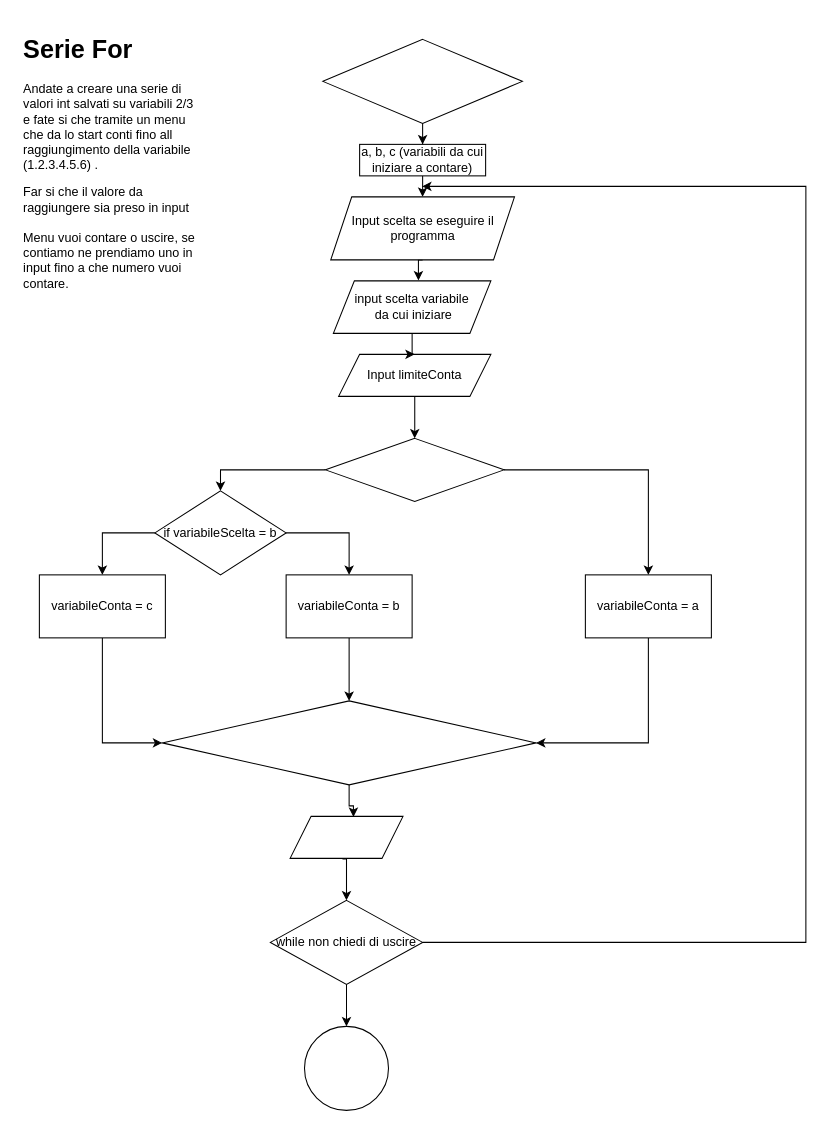
Some shapes in this 833 by 1129 pixel diagram are drawn without their labels. The centre of each missing label's shape, as x and y in pixels:
FINE: [345,1067]
for i = variabileConta; i < limiteConta ; i++: [348,742]
if variabileScelta == a: [414,469]
Inizializzazione: [422,80]
Stampa i: [346,836]
